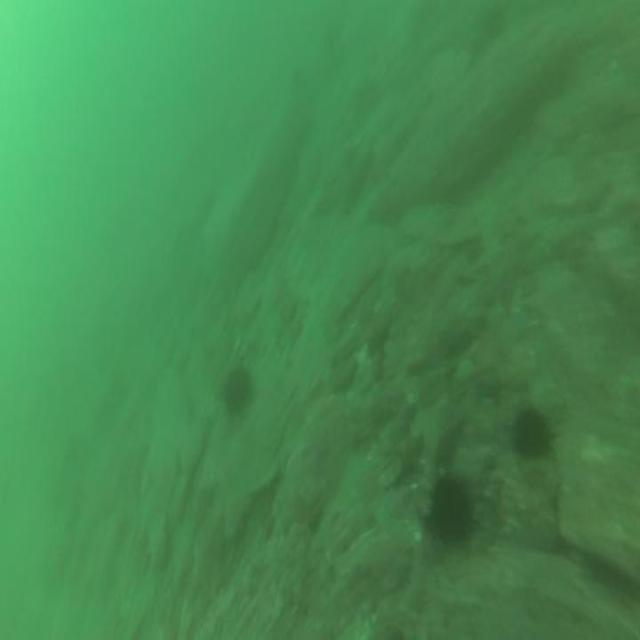echinus: (432, 478, 469, 544), (516, 409, 550, 458), (223, 372, 250, 416)
